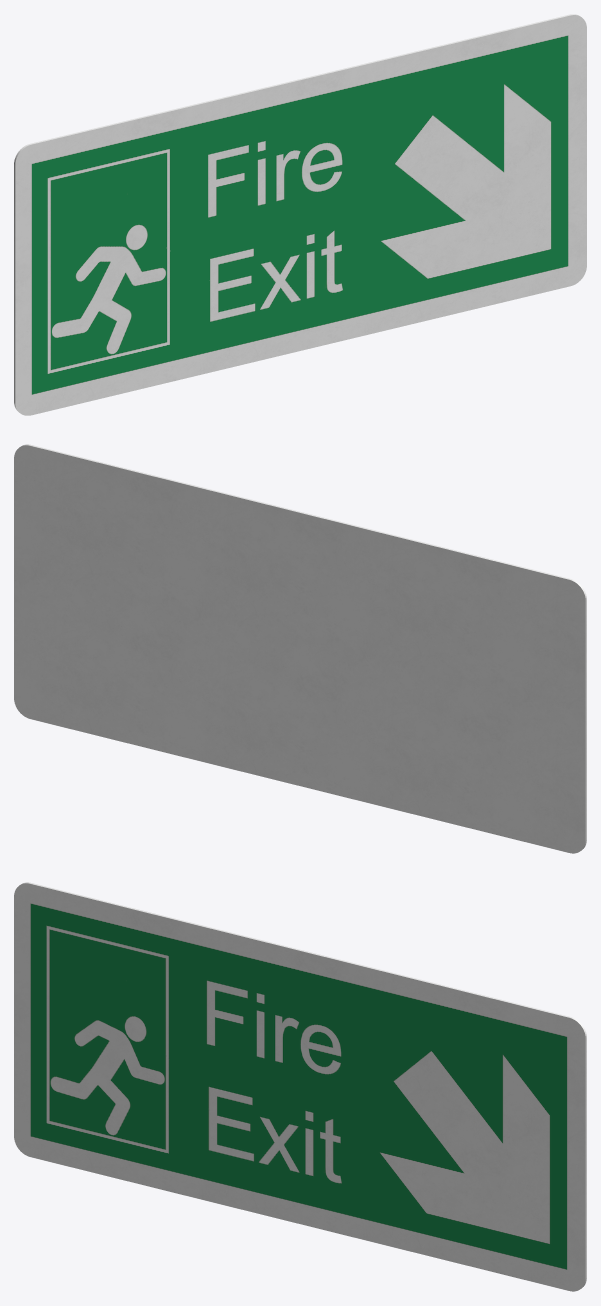
Rendered from FireExitSign.gltf.
3 views of the same model, one above another, from view 1: azimuth 30°, elevation 25°; view 2: azimuth 150°, elevation 25°; view 3: azimuth 330°, elevation 25° (orthographic).
Parts seen in each view (by area): view 1: Plane; view 2: Plane; view 3: Plane.
Part boxes in pixels (x1,y1,x2,y2): Plane: [14, 14, 586, 415]; Plane: [14, 444, 586, 853]; Plane: [14, 882, 586, 1291].
Size of the model in its own units: 0.3947 by 0.1794 by 0.00461.
Materials: 1 (1 with a texture image).
